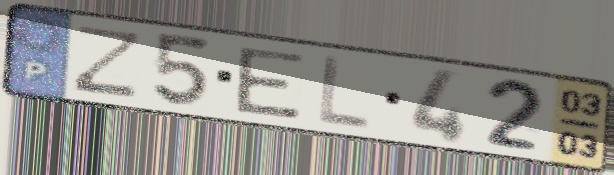2: (481, 77, 548, 157)
4: (407, 64, 471, 147)
5: (152, 29, 215, 111)
E: (234, 44, 308, 122)
L: (314, 52, 373, 134)
Z: (67, 23, 148, 100)
